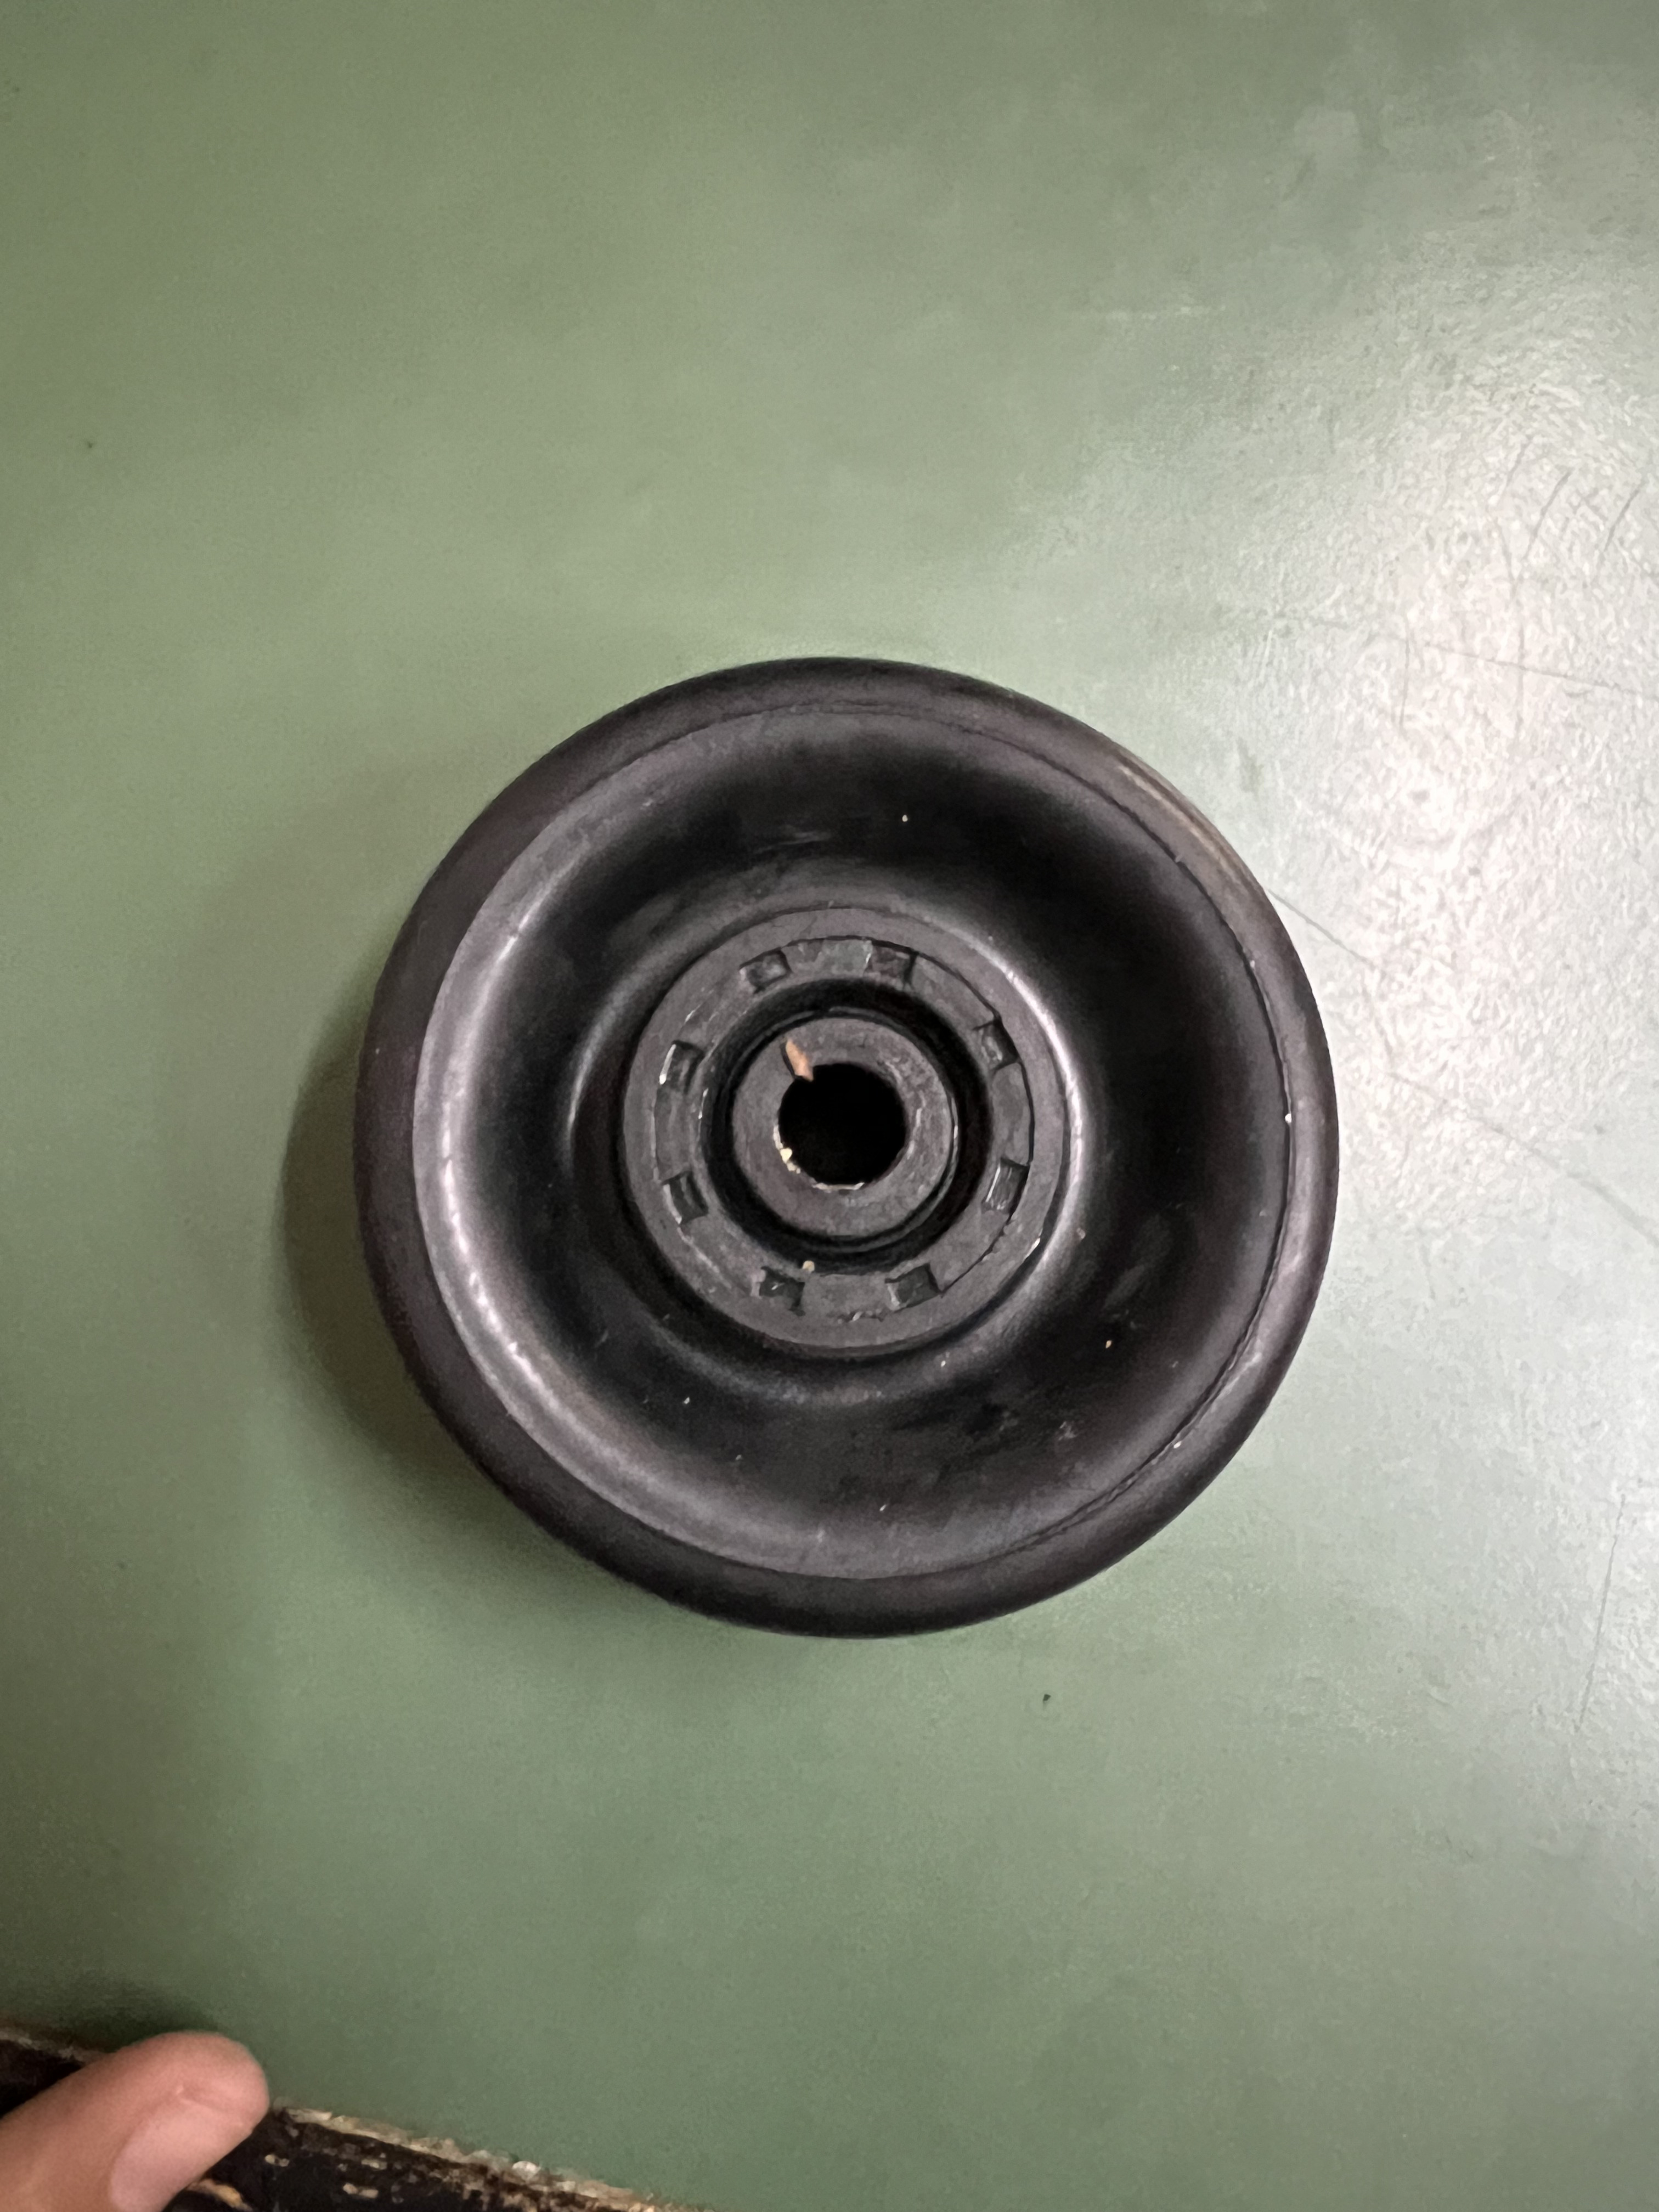lever: (343, 665, 1331, 1618)
